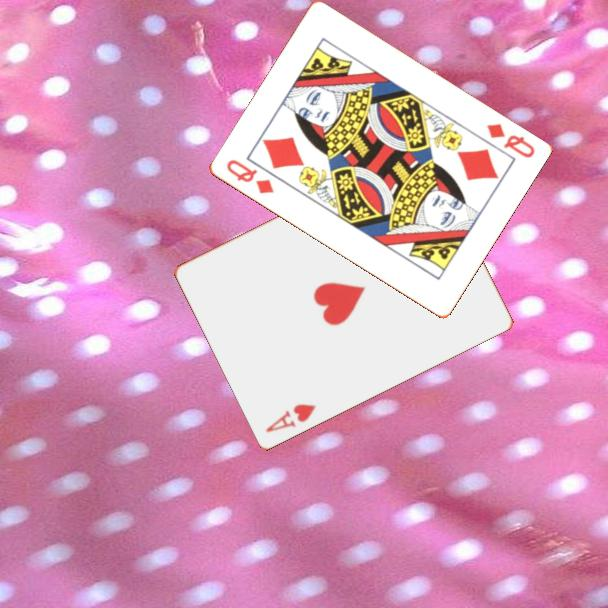d12: (482, 120, 537, 161), (222, 156, 276, 197)
h01: (262, 400, 319, 435)
